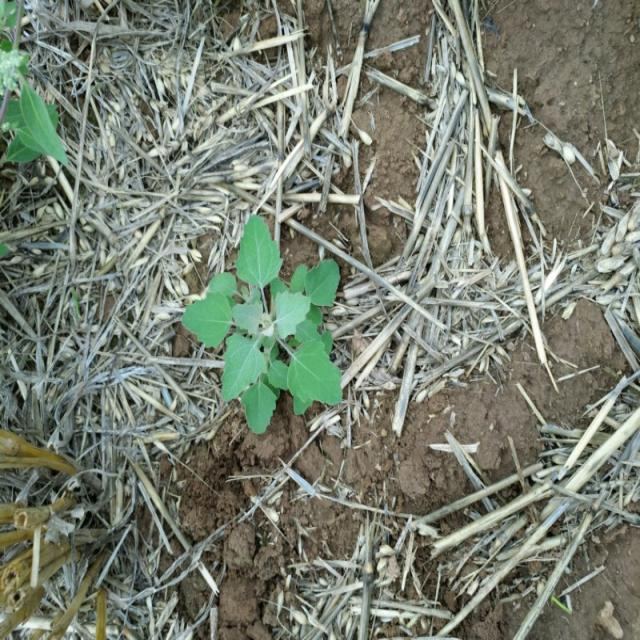goosefoots: (174, 208, 358, 418)
